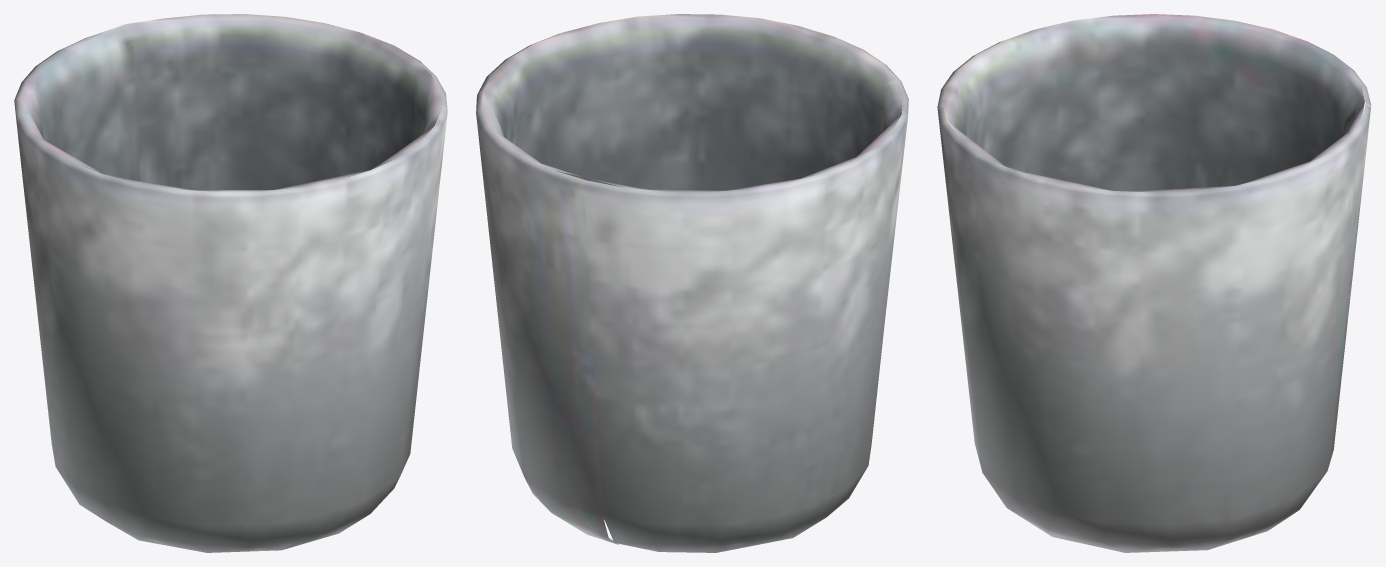
Rendered from stationery.glb.
The picture shows the model from 3 angles, left to right: view 1: azimuth 30°, elevation 25°; view 2: azimuth 150°, elevation 25°; view 3: azimuth 270°, elevation 25°; orthographic projection.
Visible parts, largest first — view 1: stationery; view 2: stationery; view 3: stationery.
Part boxes in pixels (x1,y1,x2,y2): stationery: (14,14,447,552); stationery: (476,14,908,552); stationery: (937,14,1371,552).
Bounding box in the file's own units: 0.0837 × 0.0843 × 0.0837.
Materials: 1 (1 with a texture image).
